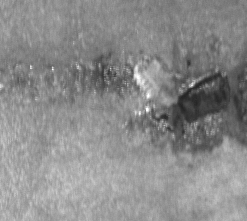Upwarping: (132, 53, 229, 122)
